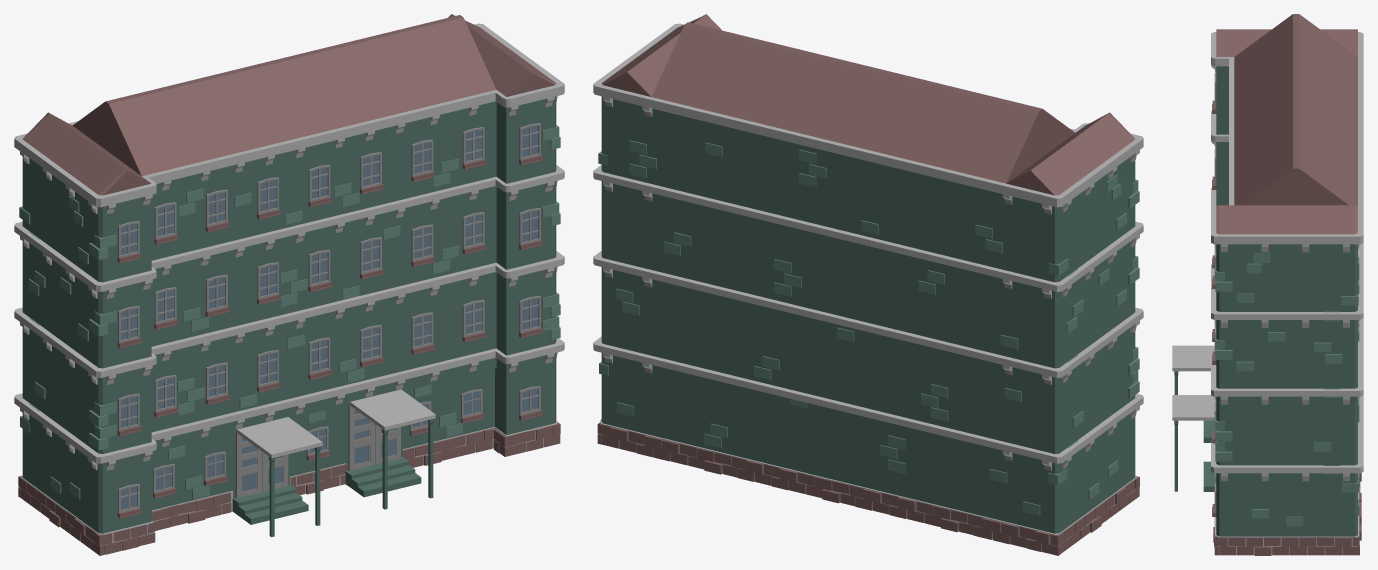
The model's file is 4Story_Wide_2Doors_Roof_Mat.glb.
3 renders of one model, left to right at view 1: azimuth 30°, elevation 25°; view 2: azimuth 150°, elevation 25°; view 3: azimuth 270°, elevation 25°, orthographic. The views are drawn at different scales.
Visible parts, largest first — view 1: 4Story_Wide_2Doors_Roof_Mat; view 2: 4Story_Wide_2Doors_Roof_Mat; view 3: 4Story_Wide_2Doors_Roof_Mat.
Part boxes in pixels (x1,y1,x2,y2): 4Story_Wide_2Doors_Roof_Mat: [14, 14, 564, 555]; 4Story_Wide_2Doors_Roof_Mat: [593, 14, 1143, 555]; 4Story_Wide_2Doors_Roof_Mat: [1172, 14, 1363, 555].
Size of the model in its own units: 5.46 by 4.55 by 2.16.
